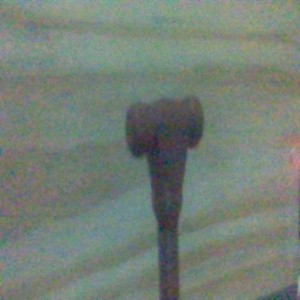palu: (124, 94, 204, 300)
